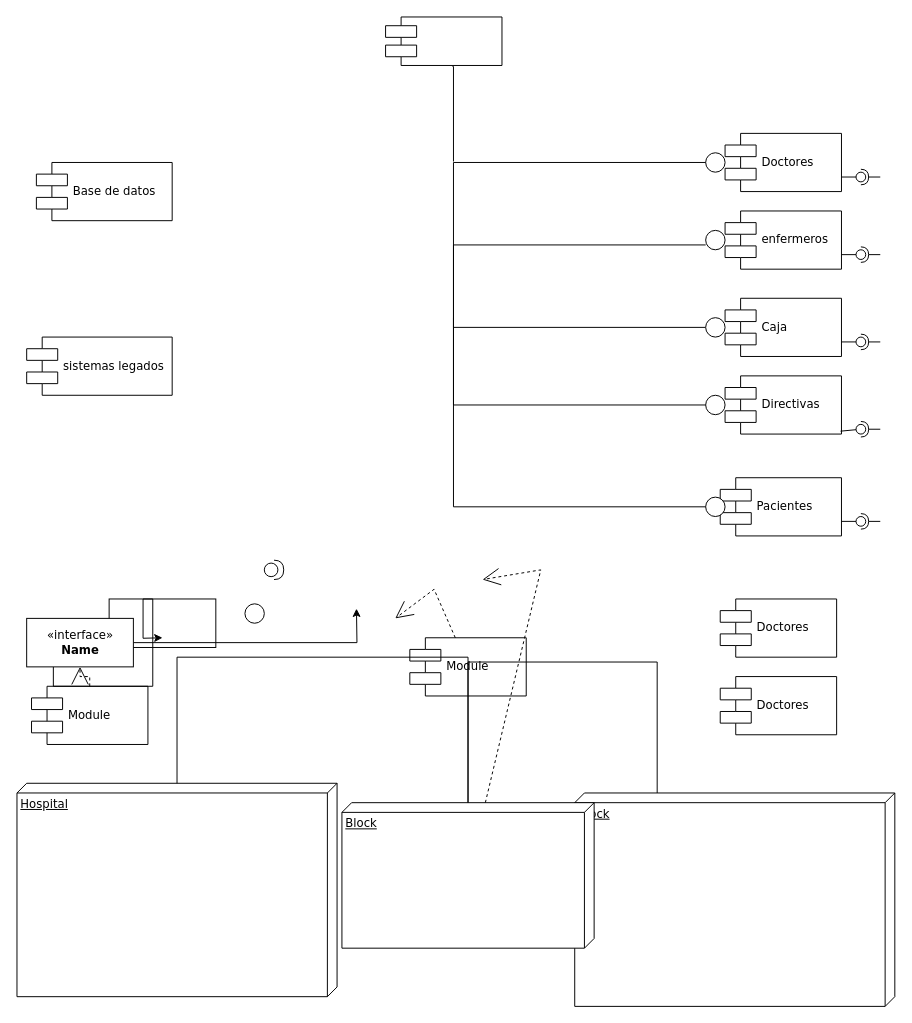
The diagram is 912 pixels wide and 1023 high, and some of its shapes have lost their labels. Here are the shapes that lost their labels. From the top down, the centre of each, then its label:
At (x=443, y=40): "Seguridad".
At (x=162, y=622): "«component» Name".
